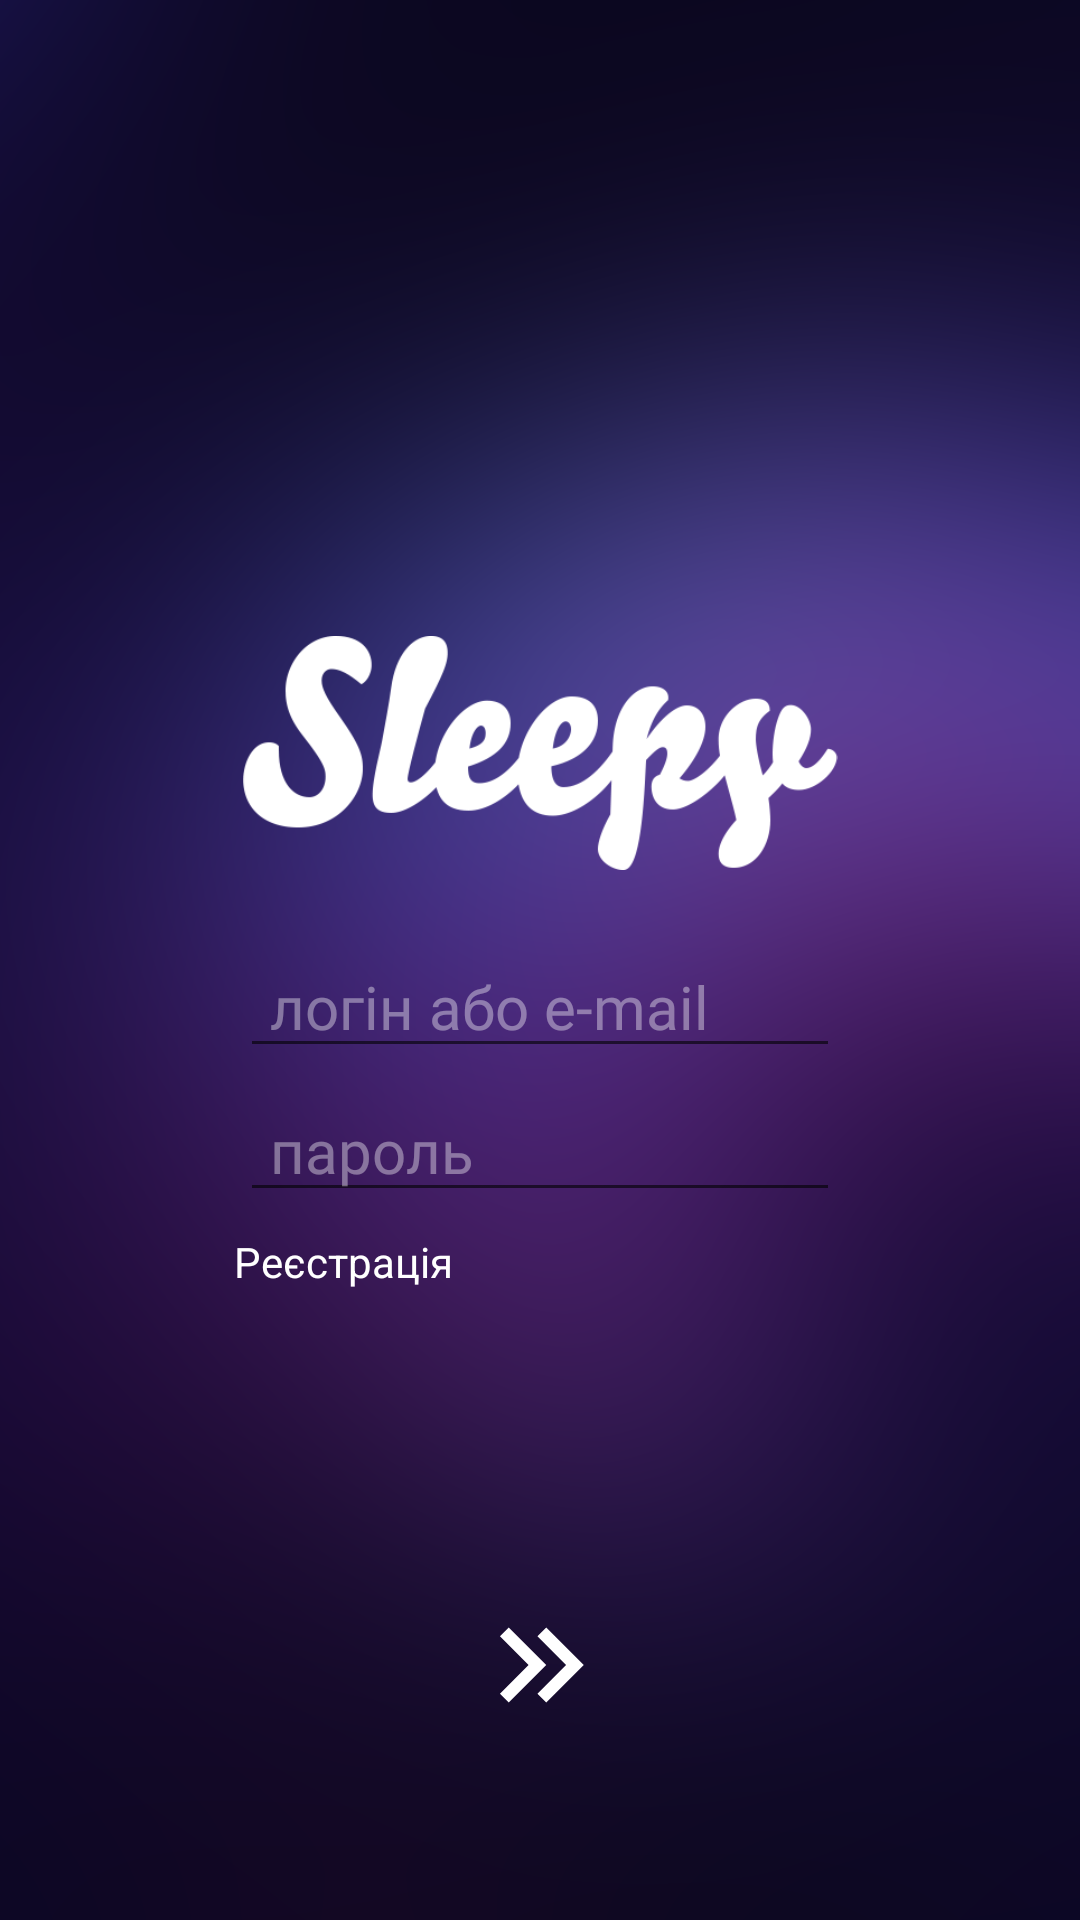

Named icons in this screenshot (1080 x 1920) and their centers, [x,y]:
arrows: [542,1665]
